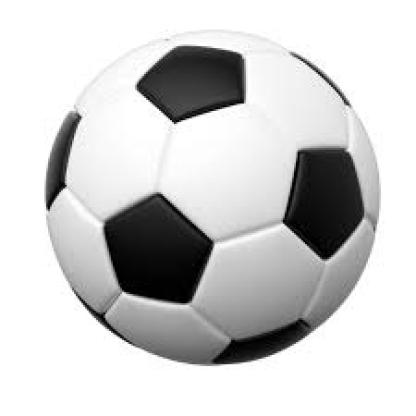ball: (47, 29, 381, 366)
